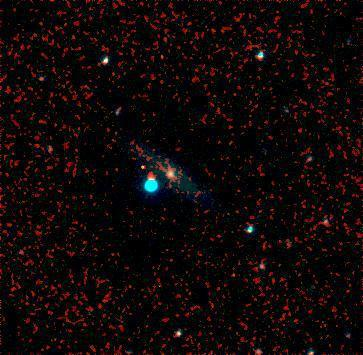star: (131, 152, 161, 182)
